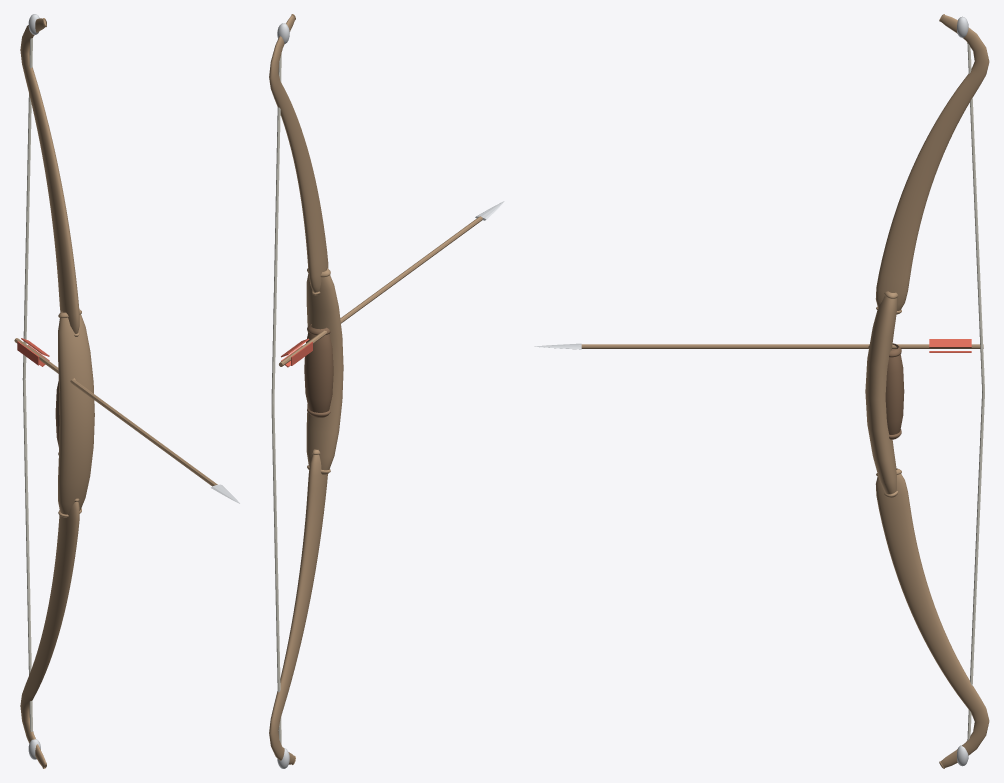
Rendered from ArcoCompuesto.fbx.
3 views of the same model, side by side, from view 1: azimuth 30°, elevation 25°; view 2: azimuth 150°, elevation 25°; view 3: azimuth 270°, elevation 25° (orthographic).
Parts seen in each view (by area): view 1: Palas, Riser, Cuerda, Asta, Plumas; view 2: Palas, Riser, Cuerda, Empunadura, Asta; view 3: Palas, Riser, Cuerda, Asta, Empunadura.
Part boxes in pixels (<box>): Palas: <box>20,18,79,768</box>; Riser: <box>58,309,94,517</box>; Cuerda: <box>22,38,32,731</box>; Asta: <box>14,338,217,486</box>; Plumas: <box>17,338,49,366</box>; Palas: <box>269,14,328,764</box>; Riser: <box>306,268,343,474</box>; Cuerda: <box>271,53,281,744</box>; Empunadura: <box>304,324,333,417</box>; Asta: <box>279,216,482,366</box>; Palas: <box>875,14,989,768</box>; Riser: <box>865,291,898,497</box>; Cuerda: <box>967,43,984,740</box>; Asta: <box>581,344,983,348</box>; Empunadura: <box>885,343,904,439</box>.
Size of the model in its own units: 0.0642 by 1.38 by 0.7547.
